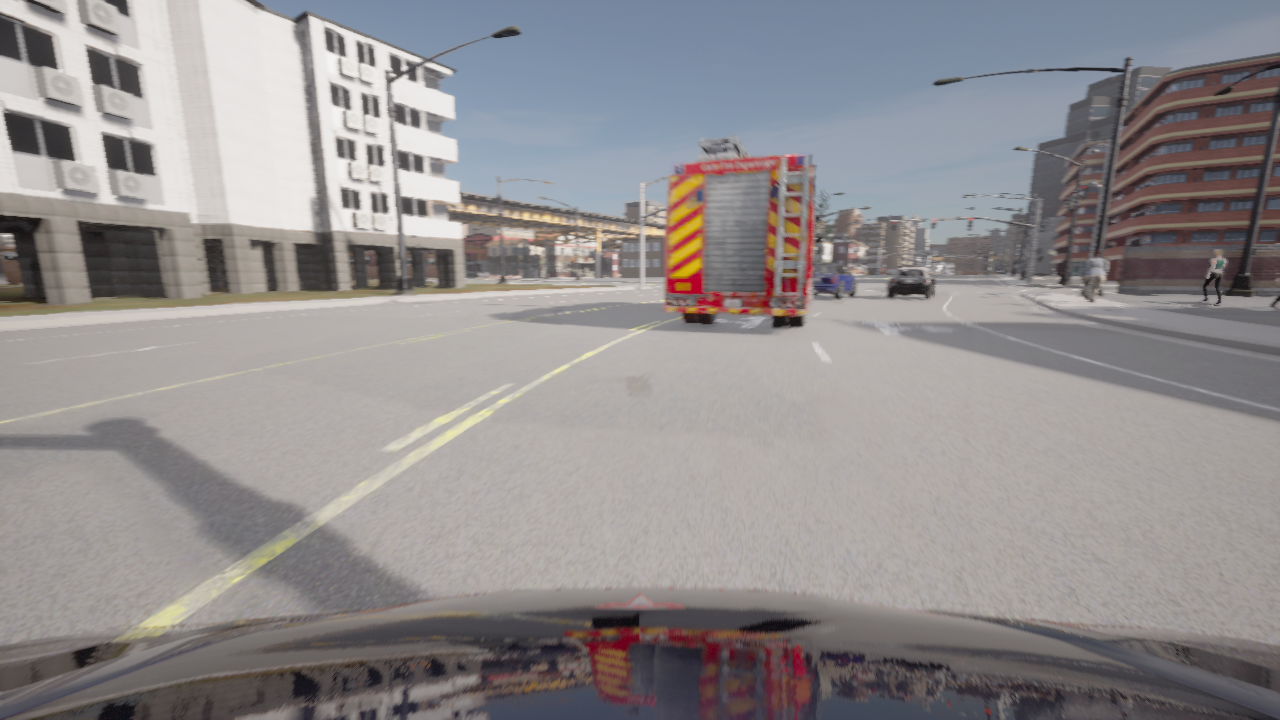cyclist: (0, 588, 1279, 719), (664, 136, 823, 327), (812, 263, 855, 298), (887, 268, 935, 299), (478, 272, 495, 277), (498, 272, 508, 278), (928, 271, 930, 276)
pedestrian: (1199, 250, 1225, 304), (1082, 251, 1107, 302), (1268, 270, 1279, 309)
